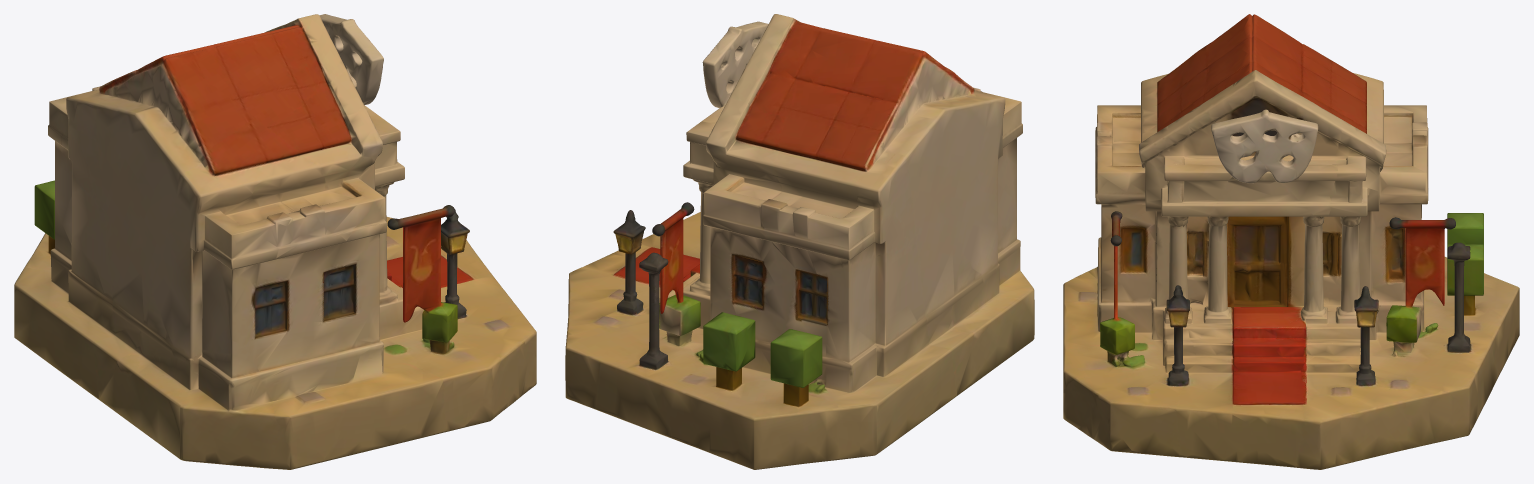
Rendered from theater.glb.
The picture shows the model from 3 angles, left to right: view 1: azimuth 30°, elevation 25°; view 2: azimuth 150°, elevation 25°; view 3: azimuth 270°, elevation 25°; orthographic projection. The views are drawn at different scales.
Visible parts, largest first — view 1: tripo_node_a1b46b5a-6ac1-4404-86bb-f45997a67bc5; view 2: tripo_node_a1b46b5a-6ac1-4404-86bb-f45997a67bc5; view 3: tripo_node_a1b46b5a-6ac1-4404-86bb-f45997a67bc5.
Boxes of the visible parts, box(x1,y1,x2,y2) form: tripo_node_a1b46b5a-6ac1-4404-86bb-f45997a67bc5: box(14, 14, 536, 469); tripo_node_a1b46b5a-6ac1-4404-86bb-f45997a67bc5: box(565, 14, 1034, 469); tripo_node_a1b46b5a-6ac1-4404-86bb-f45997a67bc5: box(1063, 14, 1519, 469).
Size of the model in its own units: 0.885 by 0.7557 by 0.9998.
Materials: 1 (1 with a texture image).
